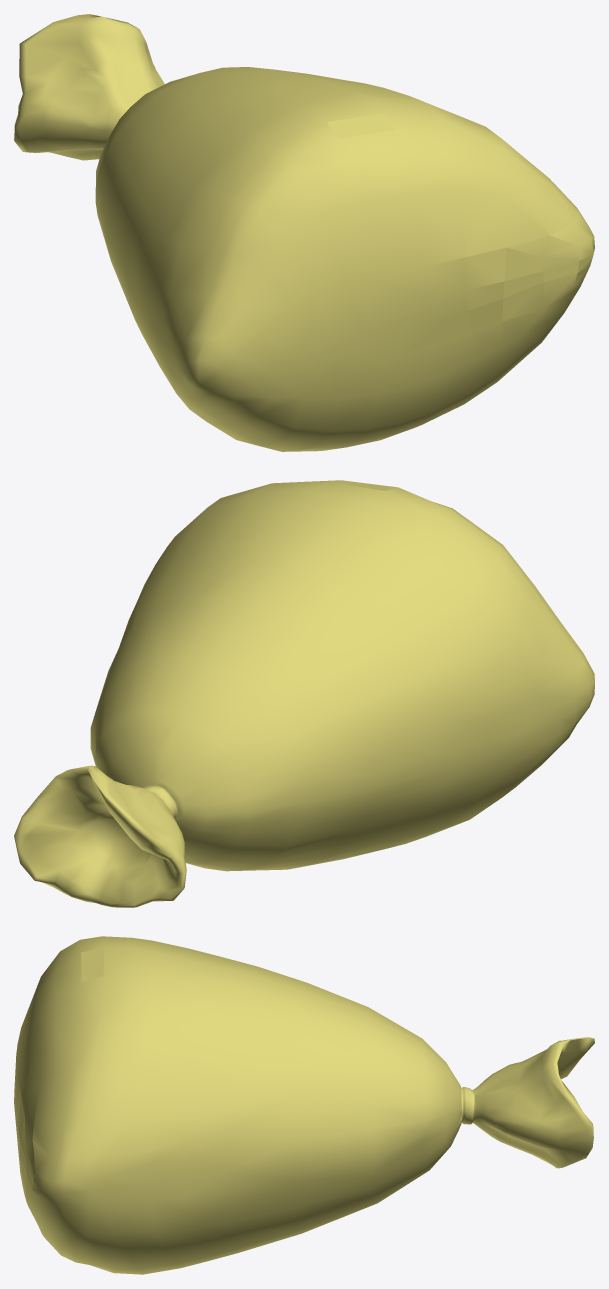
Rendered from MoneyBag.fbx.
3 views of the same model, one above another, from view 1: azimuth 30°, elevation 25°; view 2: azimuth 150°, elevation 25°; view 3: azimuth 270°, elevation 25° (orthographic). The views are drawn at different scales.
Visible parts, largest first — view 1: Money_Sack_B3; view 2: Money_Sack_B3; view 3: Money_Sack_B3.
Part boxes in pixels (box(x1,y1,x2,y2)): Money_Sack_B3: box(14, 14, 594, 451); Money_Sack_B3: box(14, 480, 594, 907); Money_Sack_B3: box(14, 936, 594, 1274).
Size of the model in its own units: 2897 by 2231 by 4007.
